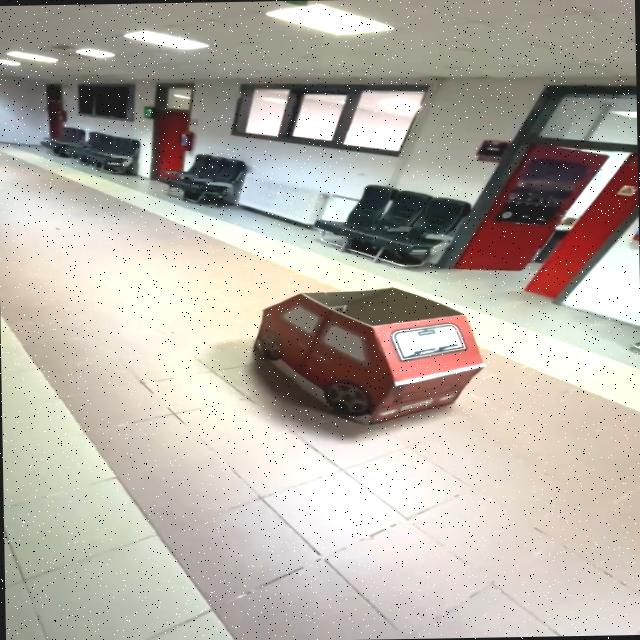red_car: (213, 257, 495, 442)
